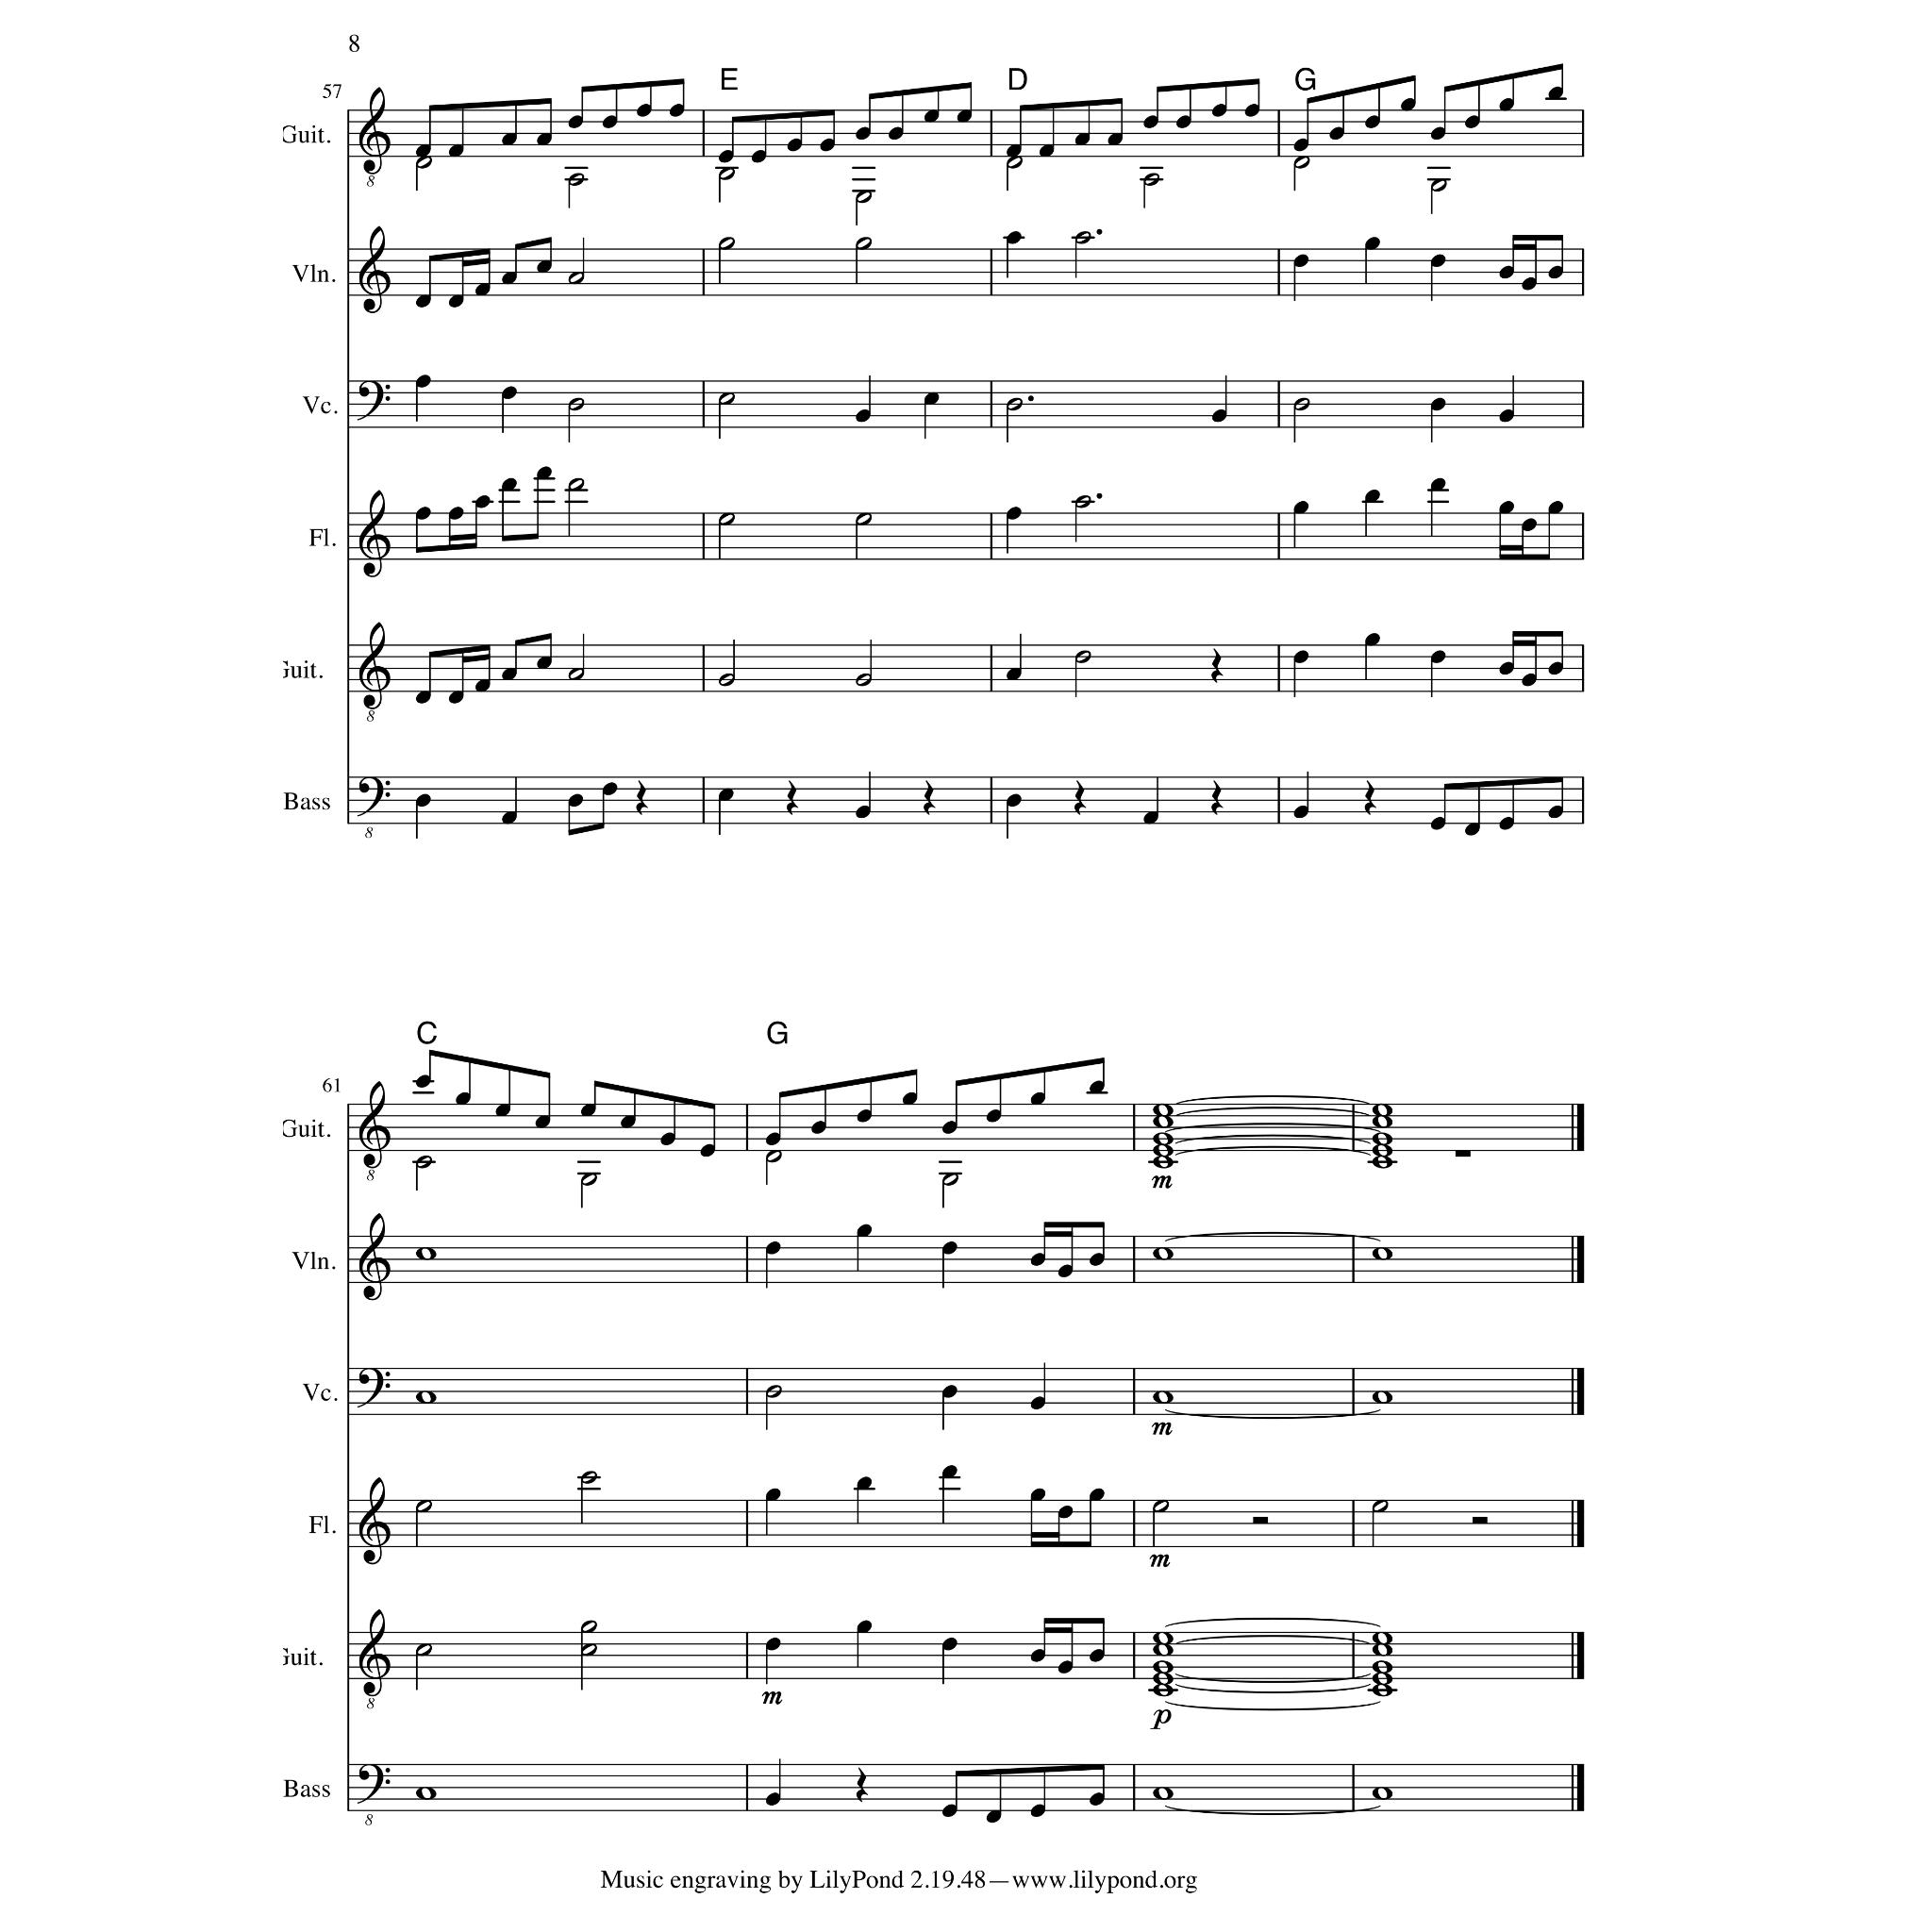fClef: (357, 777, 391, 817), (357, 381, 391, 421), (357, 1368, 391, 1407), (357, 1764, 391, 1804)
gClef: (358, 490, 391, 578), (358, 622, 391, 710), (358, 87, 391, 175), (358, 225, 391, 314), (358, 1081, 391, 1170), (358, 1212, 391, 1301), (358, 1476, 391, 1565), (358, 1608, 391, 1697)
noteheadBlack: (1074, 132, 1091, 147), (536, 132, 553, 147), (447, 506, 464, 521), (1108, 132, 1123, 147), (1430, 477, 1445, 492), (502, 132, 517, 147), (502, 477, 517, 492), (415, 506, 430, 521), (1007, 230, 1022, 245), (1007, 506, 1022, 521), (1243, 104, 1260, 117), (1292, 139, 1309, 152), (1292, 255, 1309, 268), (1292, 501, 1309, 514), (1292, 651, 1309, 664), (1292, 806, 1309, 819), (1175, 116, 1192, 129), (1211, 104, 1228, 117), (1211, 409, 1228, 423), (1547, 87, 1564, 100), (1547, 266, 1564, 279), (1547, 501, 1564, 514), (1547, 662, 1564, 675), (1547, 806, 1564, 819), (1521, 277, 1538, 291), (1521, 518, 1538, 531), (1521, 674, 1538, 687), (1400, 98, 1417, 111), (1364, 633, 1381, 646), (1328, 127, 1345, 141), (1364, 116, 1381, 129), (1364, 237, 1381, 250), (1364, 490, 1381, 503), (1498, 662, 1515, 675), (1498, 98, 1515, 111), (1498, 266, 1515, 279), (1498, 409, 1515, 423), (1498, 501, 1515, 514), (1498, 817, 1515, 830), (1464, 116, 1481, 129), (1464, 823, 1481, 836), (536, 260, 553, 274), (536, 467, 553, 480), (474, 283, 491, 296), (474, 495, 491, 508), (474, 679, 491, 692), (536, 656, 553, 669), (447, 144, 464, 158), (447, 294, 464, 308), (447, 691, 464, 704), (855, 127, 872, 141), (855, 409, 872, 423), (855, 806, 872, 819), (819, 139, 836, 152), (923, 110, 940, 124), (923, 392, 940, 406), (717, 150, 734, 163), (717, 789, 734, 802), (636, 104, 653, 117), (668, 104, 685, 117), (1057, 1264, 1074, 1277), (1057, 1506, 1074, 1519), (1057, 1660, 1074, 1674), (1089, 1792, 1106, 1806), (1089, 1080, 1106, 1093), (1089, 1253, 1106, 1266), (1089, 1489, 1106, 1502), (1089, 1649, 1106, 1662), (534, 1115, 551, 1128), (494, 1104, 511, 1117), (579, 1104, 596, 1117), (455, 1092, 472, 1106), (985, 1109, 1002, 1123), (985, 1810, 1002, 1824), (1039, 144, 1054, 158), (1143, 116, 1158, 129), (1143, 811, 1158, 824), (1430, 127, 1445, 141), (1430, 255, 1445, 268), (1430, 398, 1445, 411), (1430, 651, 1445, 664), (1430, 817, 1445, 830), (502, 272, 517, 285), (502, 387, 517, 400), (502, 668, 517, 681), (502, 811, 517, 824), (568, 116, 583, 129), (568, 794, 583, 808), (415, 144, 430, 158), (415, 294, 430, 308), (415, 375, 430, 388), (415, 691, 430, 704), (415, 794, 430, 808), (751, 150, 766, 163), (787, 139, 802, 152), (1007, 144, 1022, 158), (957, 110, 972, 124), (1007, 668, 1022, 681), (1007, 794, 1022, 808), (889, 127, 904, 141), (602, 116, 617, 129), (602, 783, 617, 796), (1030, 1253, 1045, 1266), (1030, 1092, 1045, 1106), (1030, 1804, 1045, 1817), (1030, 1649, 1045, 1662), (1030, 1489, 1045, 1502), (1030, 1396, 1045, 1409), (660, 1133, 675, 1146), (700, 1144, 715, 1158), (765, 1133, 780, 1146), (765, 1241, 780, 1255), (621, 1115, 636, 1128), (415, 1075, 430, 1089), (902, 1092, 917, 1106), (941, 1121, 957, 1134), (941, 1241, 957, 1255), (941, 1385, 957, 1398), (765, 1489, 780, 1502), (857, 1224, 872, 1238), (857, 1476, 872, 1490), (857, 1620, 872, 1633), (941, 1465, 957, 1478), (941, 1638, 957, 1651), (941, 1804, 957, 1817), (857, 1109, 872, 1123), (765, 1638, 780, 1651), (765, 1792, 780, 1806), (811, 1121, 826, 1134)
noteheadHalf: (567, 477, 584, 492), (580, 1470, 597, 1485), (1293, 156, 1310, 169), (1293, 398, 1310, 411), (1142, 173, 1159, 186), (1074, 232, 1091, 245), (1074, 495, 1091, 508), (1074, 651, 1091, 664), (1430, 179, 1447, 192), (567, 173, 584, 186), (567, 272, 584, 285), (567, 398, 584, 411), (567, 668, 584, 681), (415, 156, 432, 169), (855, 191, 872, 204), (855, 237, 872, 250), (855, 513, 872, 526), (855, 674, 872, 687), (1006, 156, 1023, 169), (1006, 398, 1023, 411), (718, 168, 735, 181), (718, 237, 735, 250), (718, 392, 735, 406), (718, 513, 735, 526), (718, 674, 735, 687), (1152, 1500, 1169, 1513), (1372, 1500, 1389, 1513), (580, 1173, 597, 1186), (580, 1643, 597, 1657), (580, 1620, 597, 1633), (765, 1150, 782, 1163), (765, 1385, 782, 1398), (415, 1643, 432, 1657), (415, 1156, 432, 1169), (415, 1500, 432, 1513), (941, 1173, 958, 1186)
noteheadWhole: (1153, 1155, 1174, 1170), (1372, 1155, 1392, 1170), (1153, 1672, 1174, 1685), (1153, 1660, 1174, 1674), (1153, 1643, 1174, 1657), (1153, 1632, 1174, 1645), (1153, 1787, 1174, 1800), (1153, 1684, 1174, 1697), (1153, 1391, 1174, 1404), (1153, 1247, 1174, 1260), (1153, 1104, 1174, 1117), (1153, 1115, 1174, 1128), (1153, 1133, 1174, 1146), (1153, 1144, 1174, 1158), (1372, 1391, 1392, 1404), (1372, 1144, 1392, 1158), (1372, 1133, 1392, 1146), (1372, 1115, 1392, 1128), (1372, 1104, 1392, 1117), (1372, 1247, 1392, 1260), (1372, 1684, 1392, 1697), (1372, 1672, 1392, 1685), (1372, 1660, 1392, 1674), (1372, 1643, 1392, 1657), (1372, 1632, 1392, 1645), (1372, 1787, 1392, 1800), (415, 1787, 436, 1800), (415, 1247, 436, 1260), (415, 1391, 436, 1404)
restHalf: (1472, 1517, 1487, 1524), (1253, 1517, 1268, 1524)
restQuarter: (1210, 780, 1224, 816), (1210, 648, 1224, 684), (1074, 780, 1087, 816), (1364, 780, 1377, 816), (923, 780, 936, 816), (787, 780, 798, 816), (636, 780, 647, 816), (857, 1768, 868, 1802)
restWhole: (1455, 1150, 1472, 1158)
